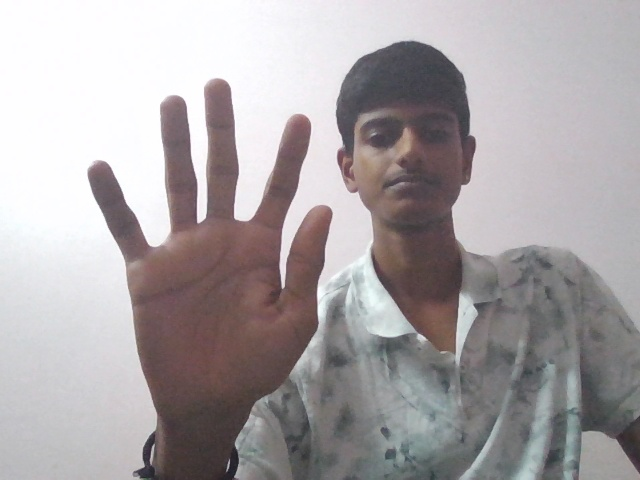hello: (83, 75, 333, 445)
